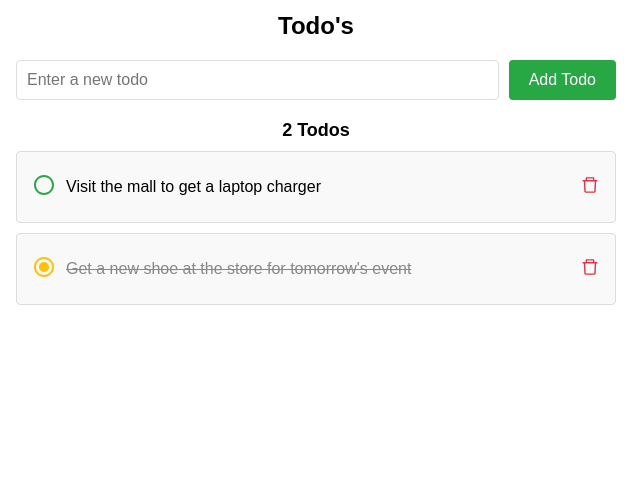
App › typing into input and displaying all todos
The image size is (633, 486).
Type "Send a mail to Dad" into the field with placeholder "Enter a new todo" at (257, 80), box x1=16 y1=60 x2=499 y2=100
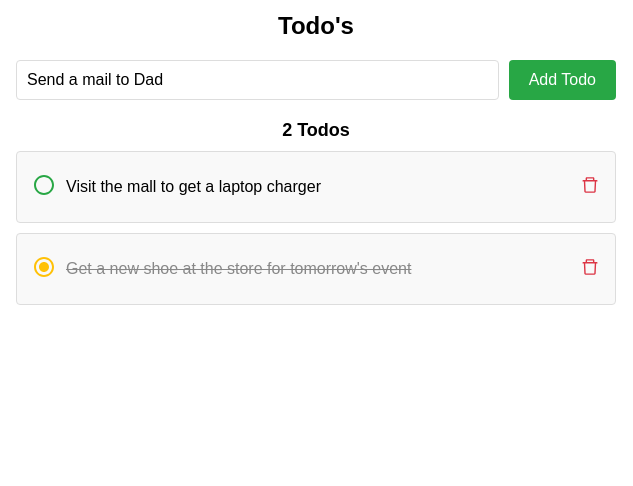
Click the button "Add Todo" at (562, 80), box x1=509 y1=60 x2=616 y2=100
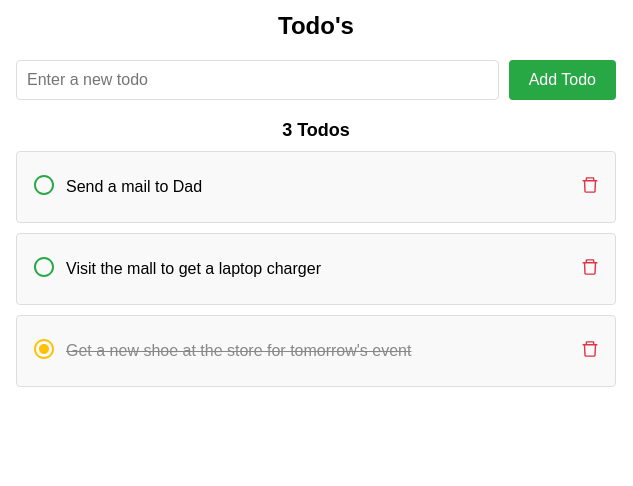
Type "Get some gifts for Bae" into the field with placeholder "Enter a new todo" at (257, 80), box x1=16 y1=60 x2=499 y2=100
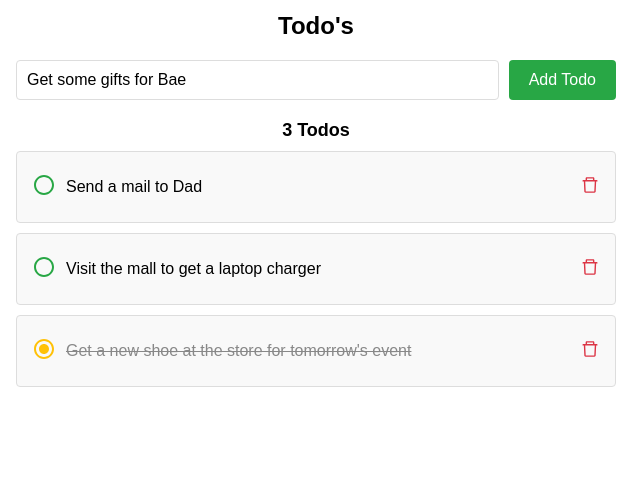
Click the button "Add Todo" at (562, 80), box x1=509 y1=60 x2=616 y2=100
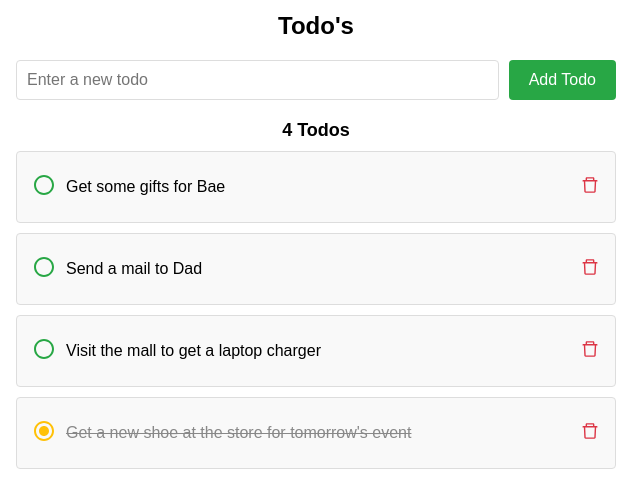
Expected: the number of elements with test id "todo" is 4, x1=16 y1=151 x2=616 y2=223; x1=16 y1=233 x2=616 y2=305; x1=16 y1=315 x2=616 y2=387; x1=16 y1=397 x2=616 y2=469
